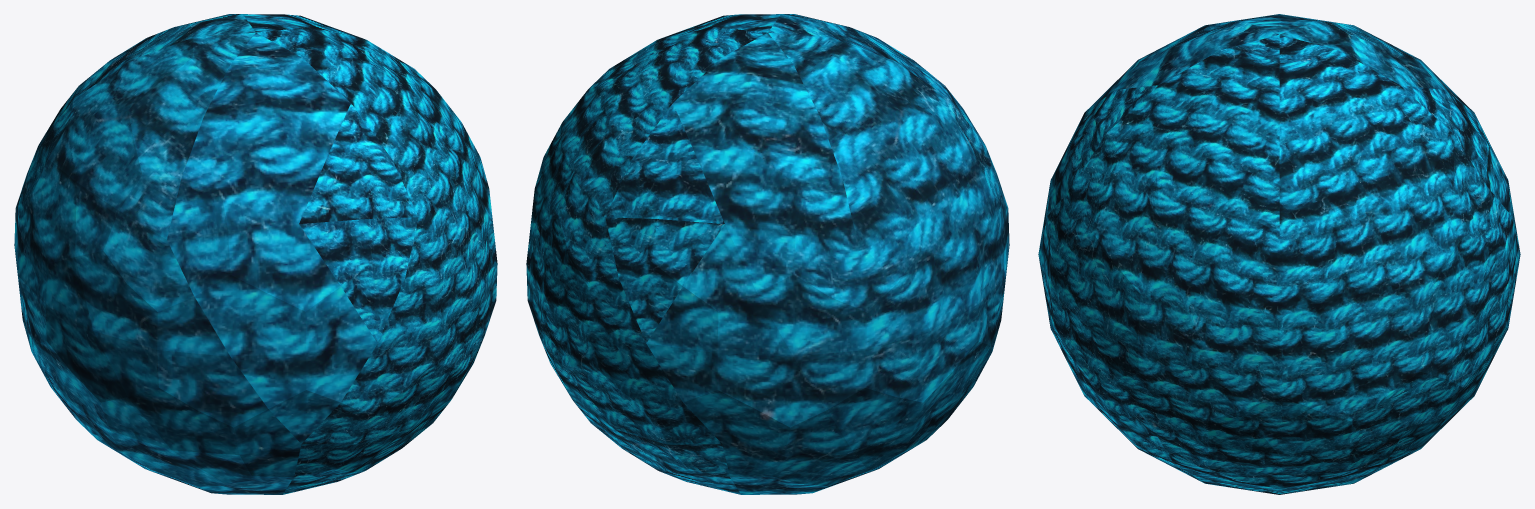
Rendered from Ball of yarn.fbx.
The picture shows the model from 3 angles, left to right: view 1: azimuth 30°, elevation 25°; view 2: azimuth 150°, elevation 25°; view 3: azimuth 270°, elevation 25°; orthographic projection.
Parts seen in each view (by area): view 1: Icosphere; view 2: Icosphere; view 3: Icosphere.
Part boxes in pixels (x1,y1,x2,y2): Icosphere: [14, 14, 497, 494]; Icosphere: [526, 14, 1009, 494]; Icosphere: [1038, 14, 1520, 494].
Bounding box in the file's own units: 185 × 186 × 185.
